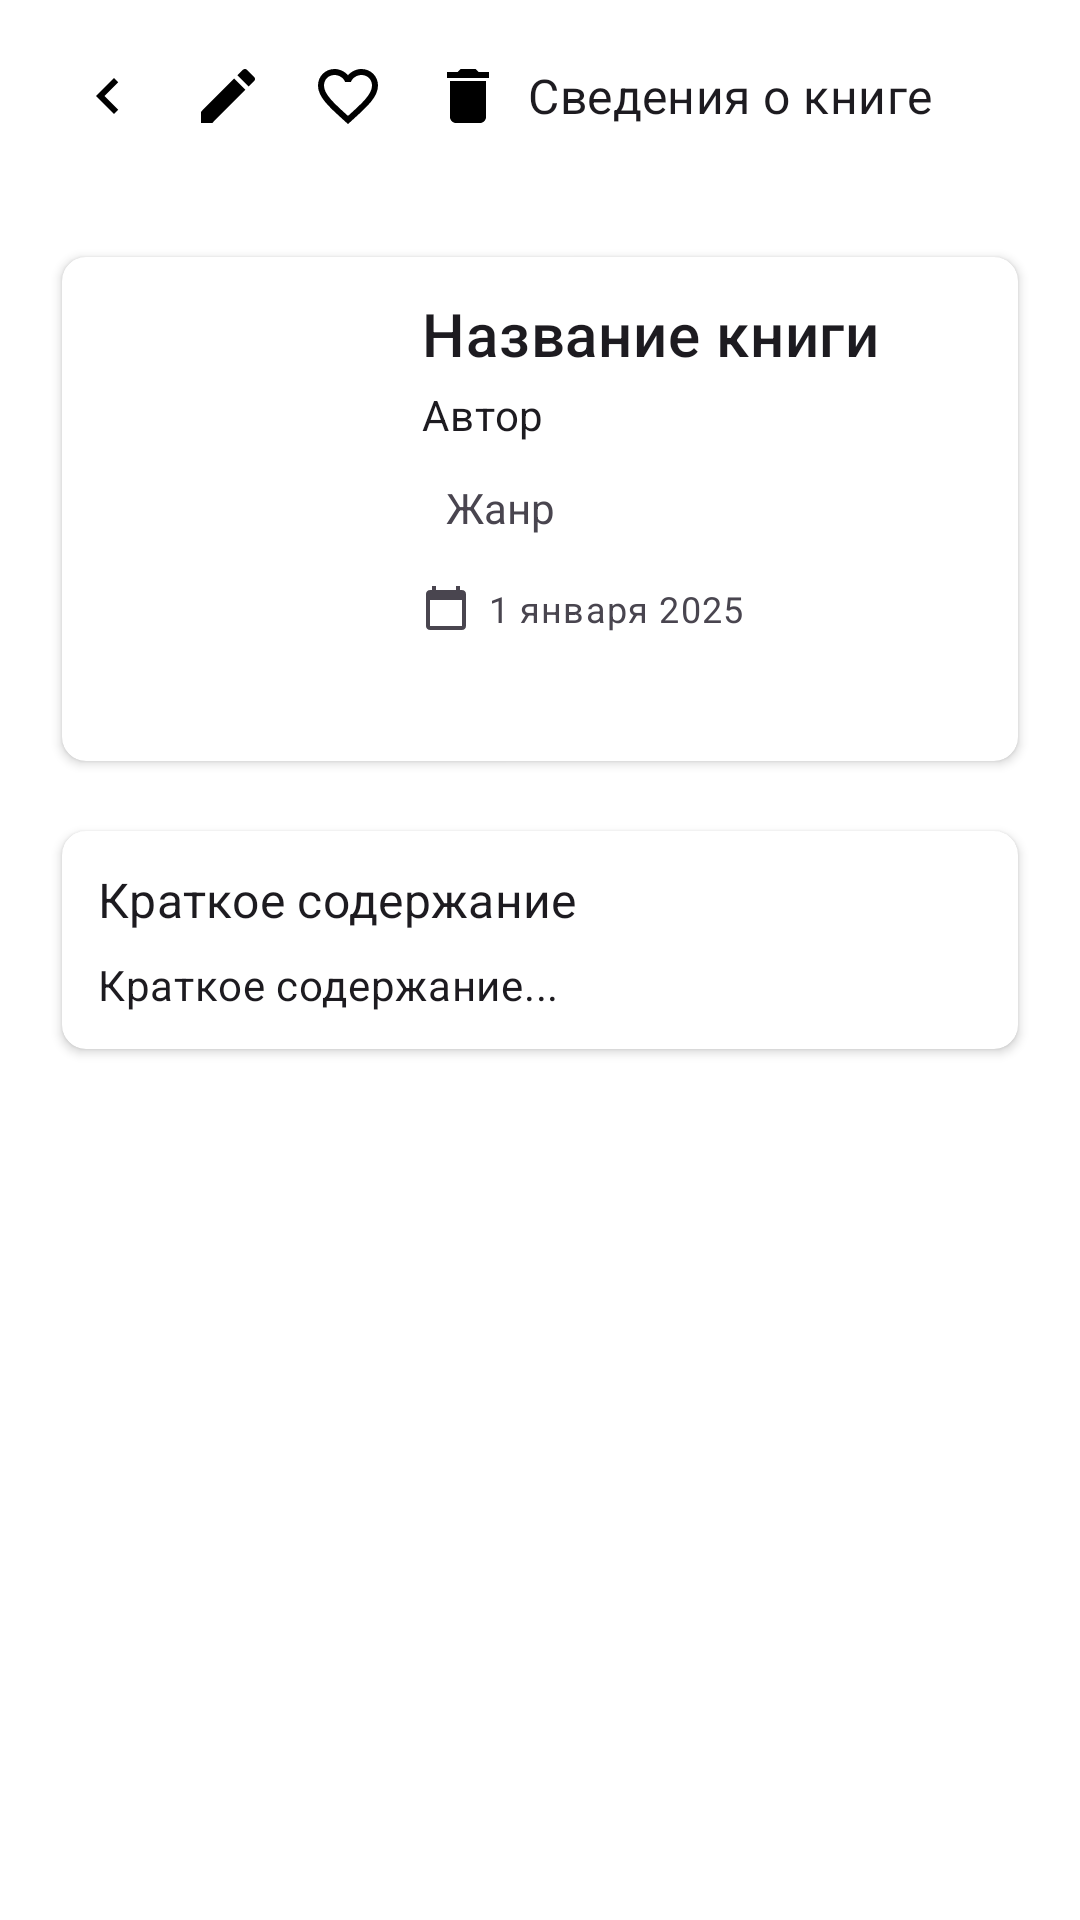

Where icons sit on this 1080px×1920px app screen, as (x1, y1, x2, y2):
calendar: (426, 586, 466, 630)
Избранное: (318, 69, 378, 124)
Назад: (96, 78, 118, 114)
Редактировать: (201, 69, 255, 123)
Удалить книгу: (447, 69, 489, 123)
